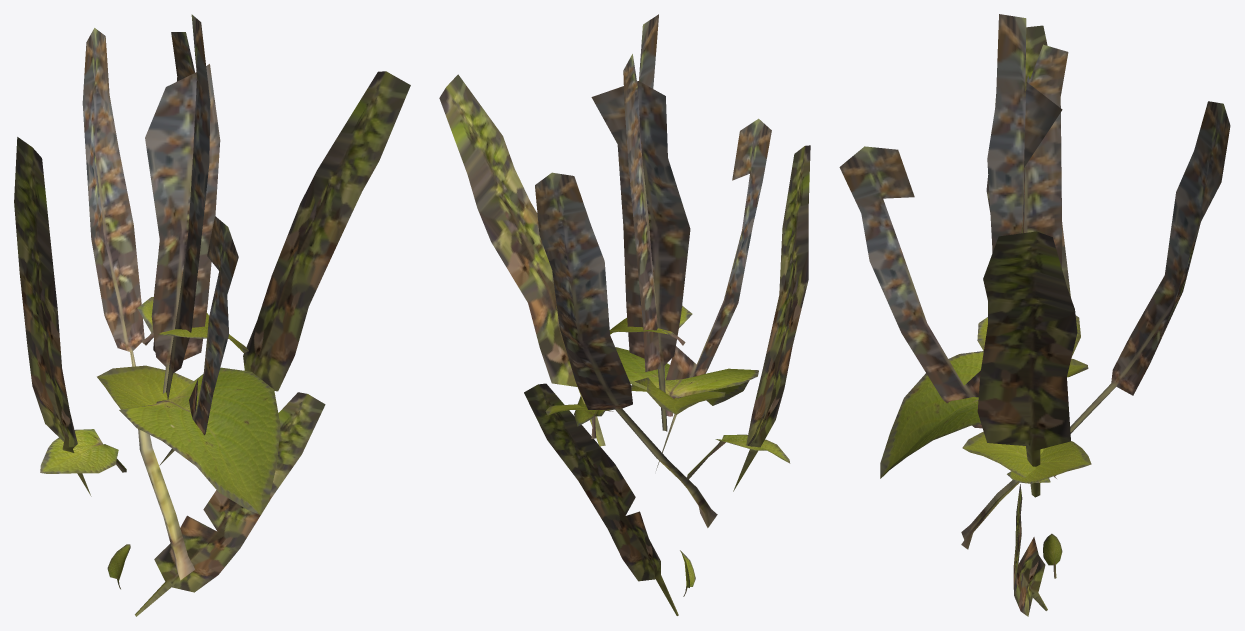
3 renders of one model, left to right at view 1: azimuth 30°, elevation 25°; view 2: azimuth 150°, elevation 25°; view 3: azimuth 270°, elevation 25°, orthographic. The views are drawn at different scales.
Parts seen in each view (by area): view 1: shrub_03_a; view 2: shrub_03_a; view 3: shrub_03_a.
Part boxes in pixels (left/top/right/bottom): shrub_03_a: left=14, top=14, right=410, bottom=616; shrub_03_a: left=439, top=14, right=810, bottom=615; shrub_03_a: left=839, top=14, right=1230, bottom=616.
Size of the model in its own units: 0.2355 by 0.3638 by 0.2085.
Materials: 1 (1 with a texture image).
